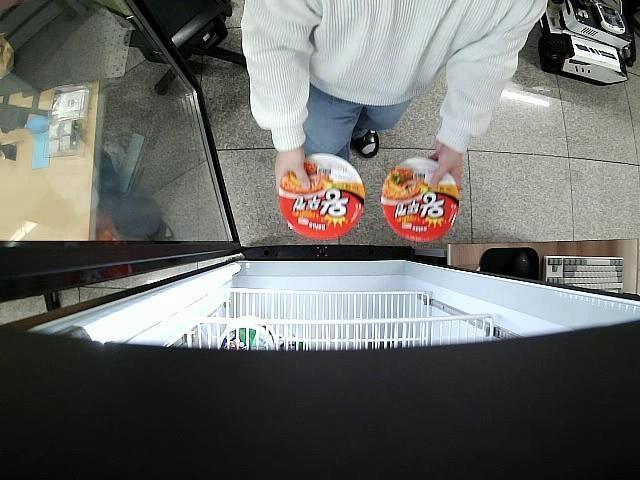10_wangTtukkeong: (280, 154, 366, 240), (381, 155, 460, 240)
